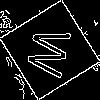W: (25, 25, 81, 81)
